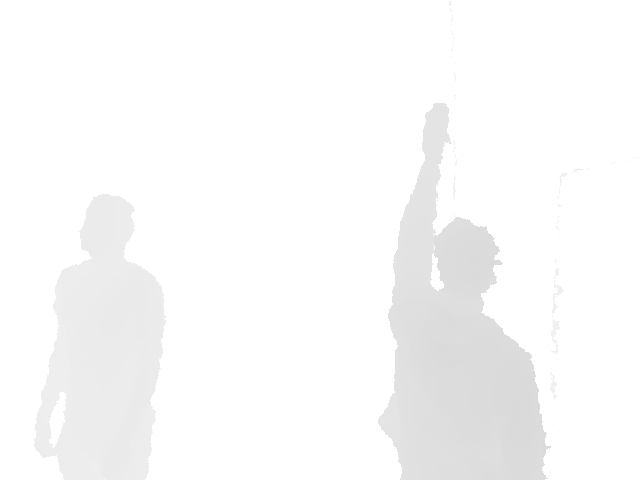hand: (421, 102, 452, 163)
head: (433, 216, 500, 310), (80, 192, 136, 263)
person: (377, 103, 552, 479), (32, 192, 167, 480)
